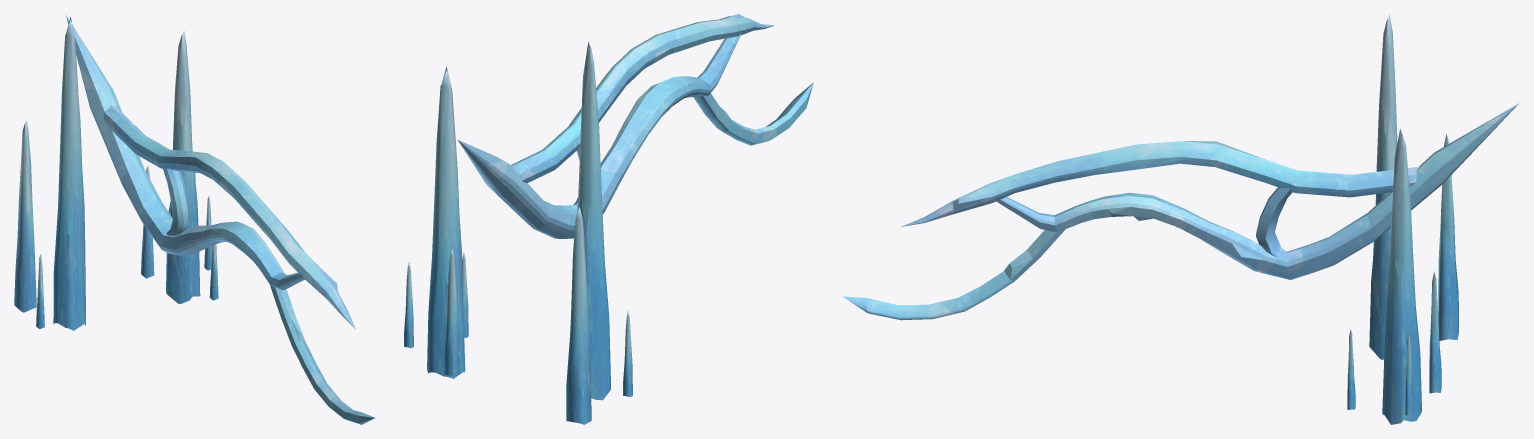
File: skate.fbx
The picture shows the model from 3 angles, left to right: view 1: azimuth 30°, elevation 25°; view 2: azimuth 150°, elevation 25°; view 3: azimuth 270°, elevation 25°; orthographic projection. The views are drawn at different scales.
Parts seen in each view (by area): view 1: sitaarch, cry2, uearch, cry1, cry12, sita2, naka, cry5, cry15, cry14; view 2: sitaarch, cry1, cry2, uearch, cry12, sita2, cry5, cry13, cry15, cry14; view 3: sitaarch, uearch, cry1, cry2, sita2, cry12, naka, cry5.
Boxes of the visible parts, x1=… form: sitaarch: x1=66, y1=15, x2=304, y2=289; cry2: x1=53, y1=17, x2=85, y2=330; uearch: x1=103, y1=105, x2=355, y2=329; cry1: x1=166, y1=31, x2=200, y2=303; cry12: x1=14, y1=120, x2=36, y2=312; sita2: x1=270, y1=285, x2=374, y2=424; naka: x1=163, y1=168, x2=189, y2=235; cry5: x1=141, y1=165, x2=154, y2=278; cry15: x1=36, y1=254, x2=44, y2=329; cry14: x1=209, y1=244, x2=218, y2=300; sitaarch: x1=457, y1=33, x2=741, y2=238; cry1: x1=427, y1=66, x2=465, y2=378; cry2: x1=577, y1=42, x2=610, y2=400; uearch: x1=511, y1=14, x2=774, y2=183; cry12: x1=566, y1=205, x2=591, y2=424; sita2: x1=693, y1=82, x2=813, y2=145; cry5: x1=444, y1=247, x2=459, y2=376; cry13: x1=404, y1=262, x2=413, y2=347; cry15: x1=623, y1=311, x2=632, y2=396; cry14: x1=462, y1=252, x2=468, y2=337; sitaarch: x1=996, y1=103, x2=1519, y2=279; uearch: x1=901, y1=141, x2=1419, y2=226; cry1: x1=1382, y1=128, x2=1421, y2=424; cry2: x1=1369, y1=14, x2=1397, y2=359; sita2: x1=843, y1=229, x2=1065, y2=320; cry12: x1=1438, y1=134, x2=1458, y2=340; naka: x1=1256, y1=187, x2=1292, y2=257; cry5: x1=1429, y1=271, x2=1441, y2=393.
Bounding box in the file's own units: 129 × 208 × 372.
